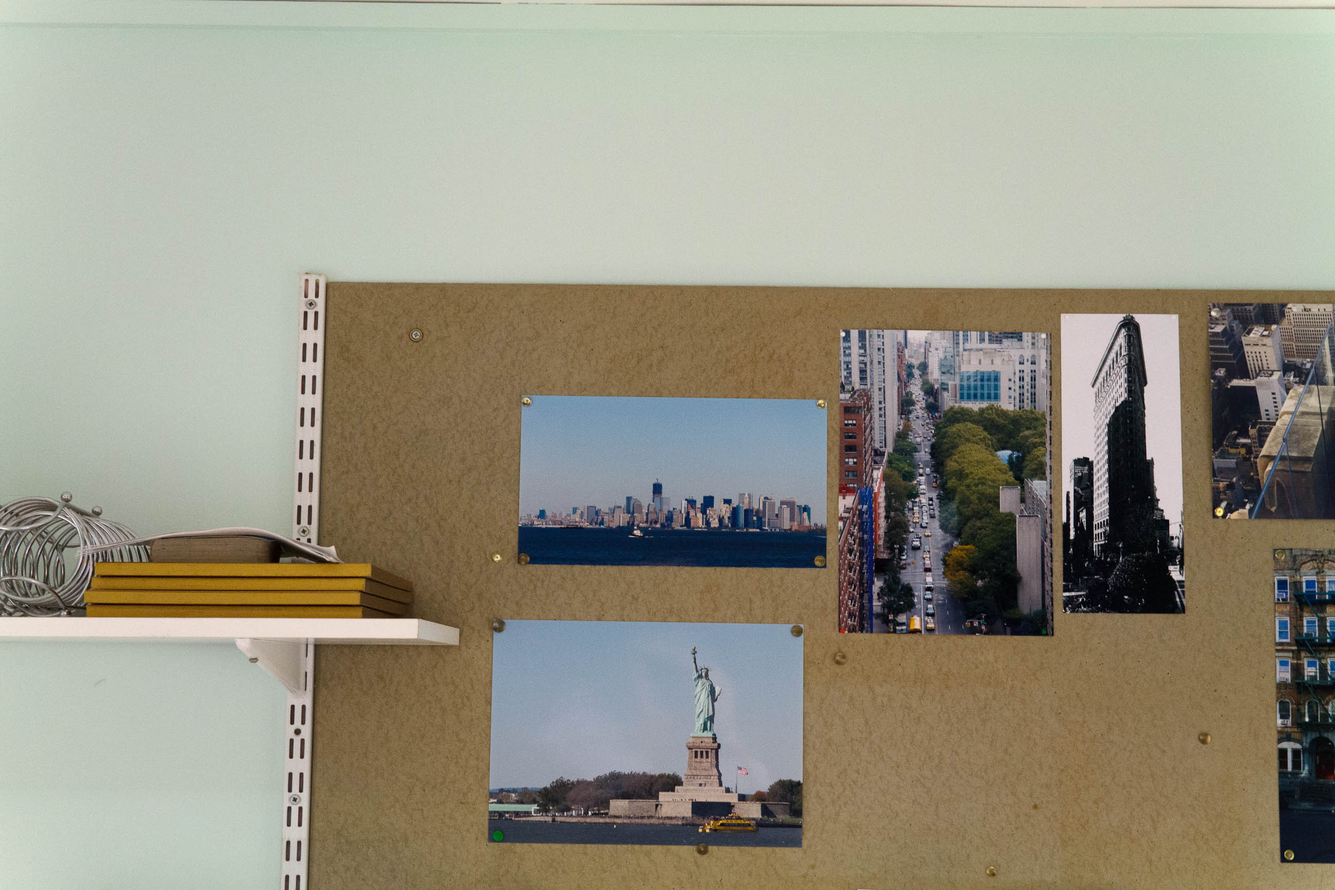not a gesture sign: (322, 282, 1262, 890)
